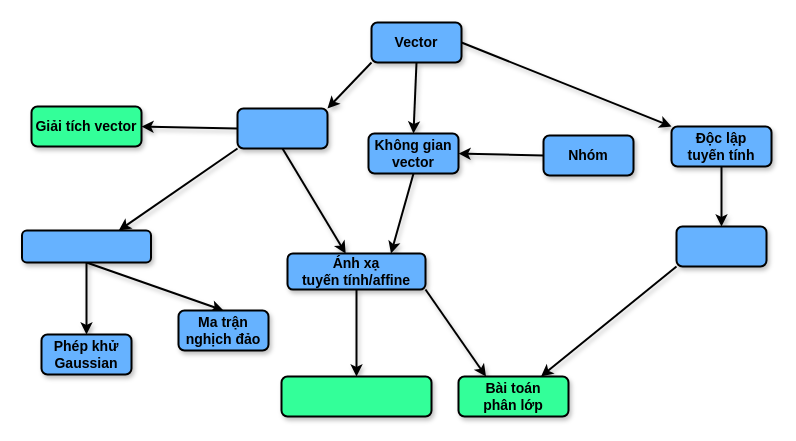
The diagram is 796 pixels wide and 441 high, and some of its shapes have lost their labels. Here are the shapes that lost their labels. From the top down, the centre of each, then its label:
(x=283, y=129): Ma trận
(x=87, y=247): Hệ phương trình tuyến tính
(x=722, y=247): Cơ sở
(x=357, y=397): Hình học giải tích
